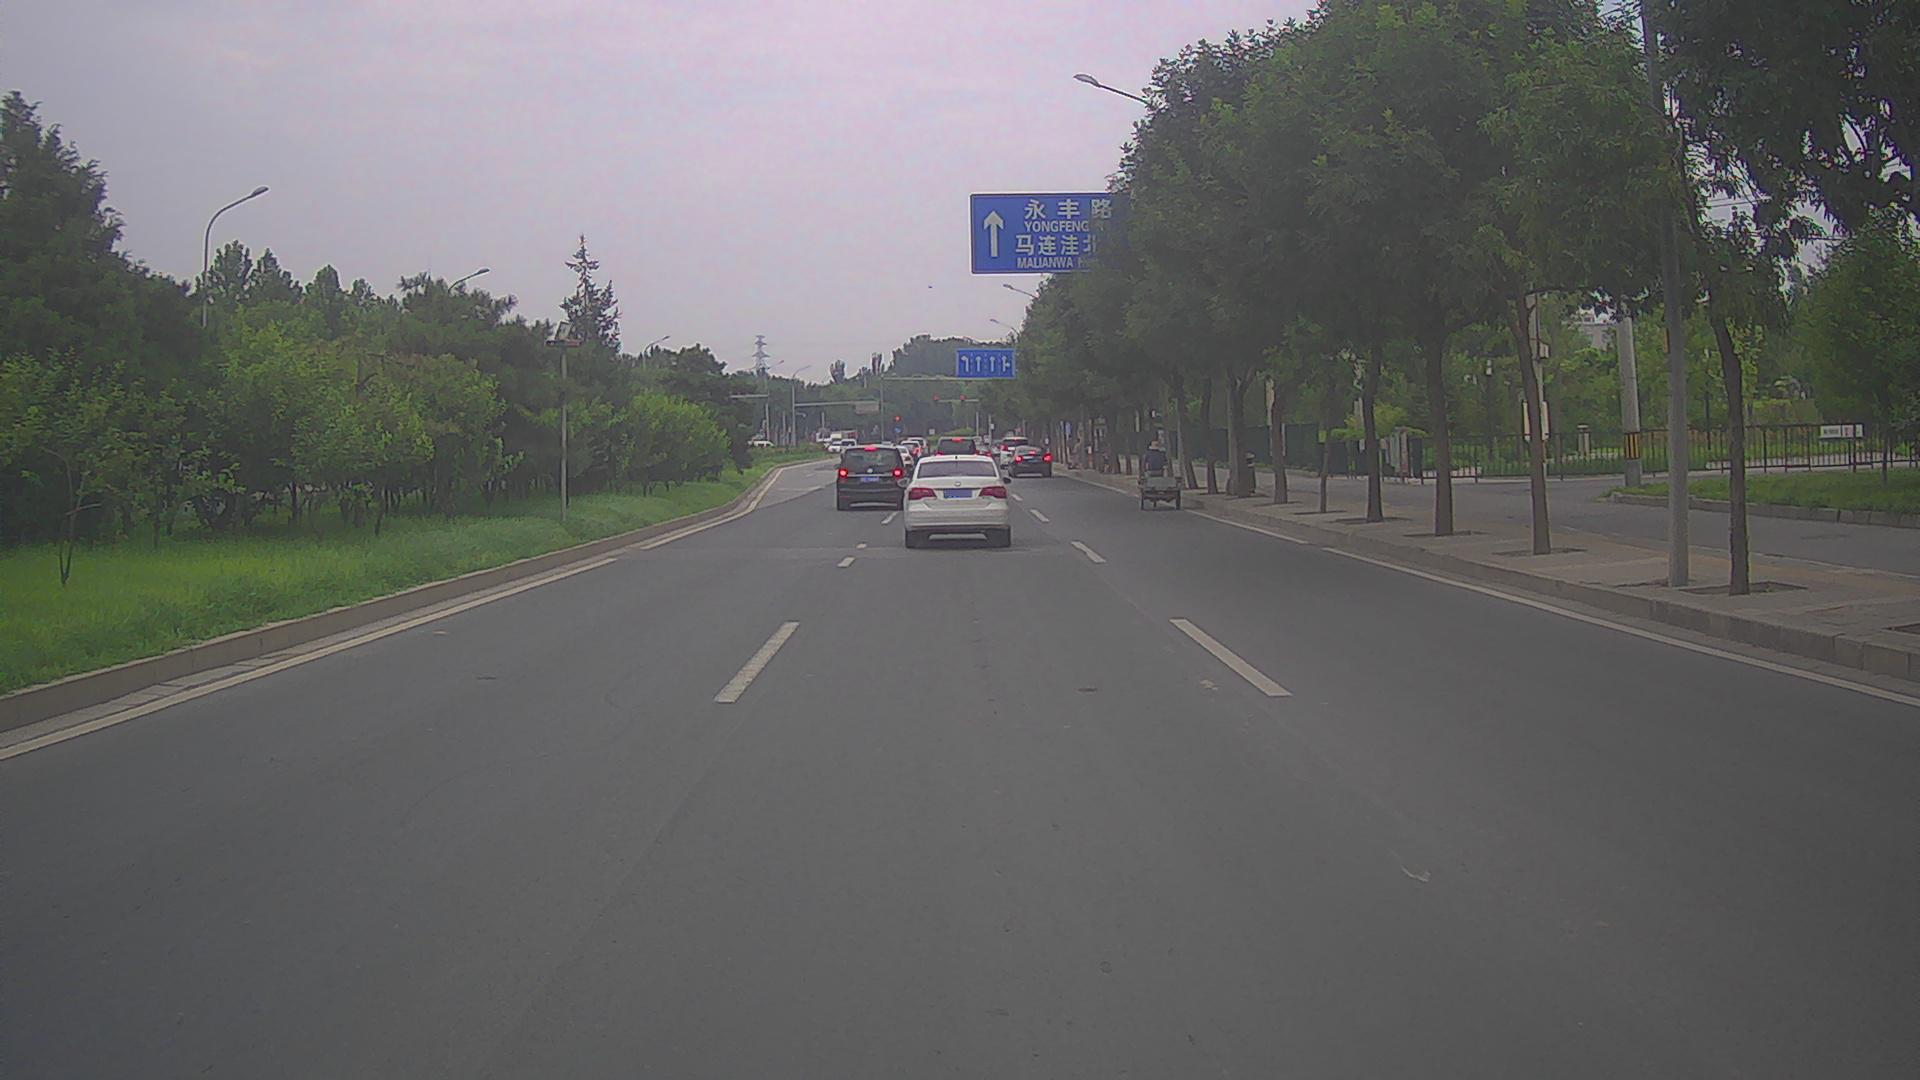car: (897, 454, 1011, 549), (833, 447, 905, 509), (932, 436, 976, 472), (1007, 444, 1051, 477), (890, 446, 916, 469), (899, 440, 922, 465)
ignore: (972, 434, 1000, 458), (1067, 435, 1083, 468), (909, 435, 930, 456), (819, 435, 840, 454), (745, 439, 774, 448)
tricyclelist: (1135, 440, 1182, 512)
van: (996, 435, 1029, 469), (839, 439, 856, 458)
